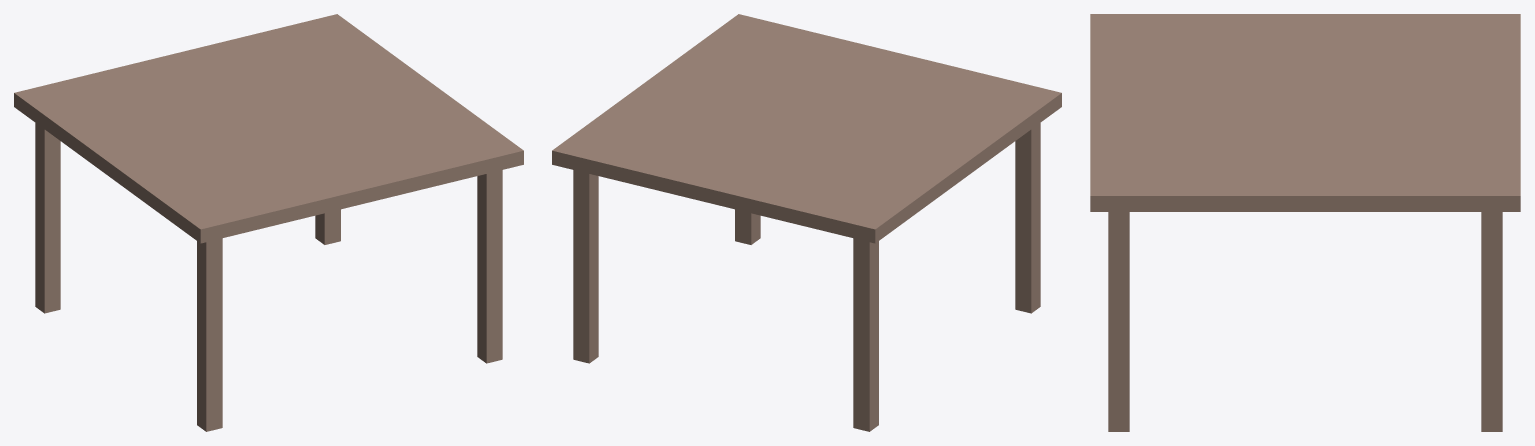
Rendered from table.glb.
The picture shows the model from 3 angles, left to right: view 1: azimuth 30°, elevation 25°; view 2: azimuth 150°, elevation 25°; view 3: azimuth 270°, elevation 25°; orthographic projection. The views are drawn at different scales.
Parts seen in each view (by area): view 1: mesh_0, mesh_3, mesh_4, mesh_1, mesh_2; view 2: mesh_0, mesh_1, mesh_2, mesh_3, mesh_4; view 3: mesh_0, mesh_2, mesh_4.
Part boxes in pixels (bbox=[...]): mesh_0: bbox=[14, 14, 523, 243]; mesh_3: bbox=[197, 238, 222, 431]; mesh_4: bbox=[477, 170, 502, 363]; mesh_1: bbox=[35, 123, 60, 313]; mesh_2: bbox=[315, 209, 340, 244]; mesh_0: bbox=[552, 14, 1061, 243]; mesh_1: bbox=[853, 238, 878, 431]; mesh_2: bbox=[573, 170, 598, 363]; mesh_3: bbox=[1015, 123, 1040, 313]; mesh_4: bbox=[735, 209, 760, 244]; mesh_0: bbox=[1090, 14, 1520, 211]; mesh_2: bbox=[1481, 212, 1502, 431]; mesh_4: bbox=[1108, 212, 1129, 431].
Size of the model in its own units: 1.2 by 0.75 by 1.2.
